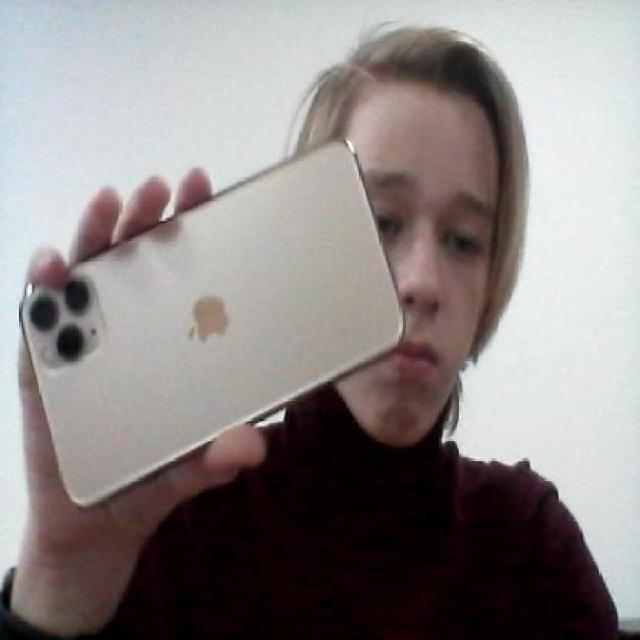mobile: (12, 128, 418, 529)
